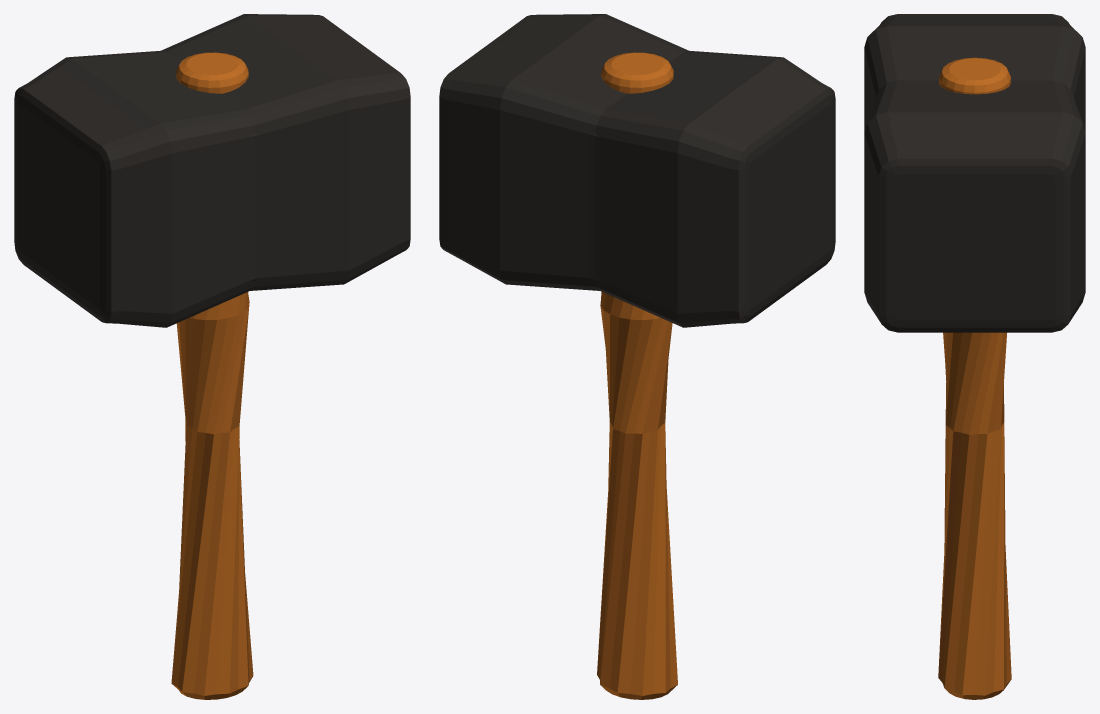
Rendered from Cekic2.fbx.
The picture shows the model from 3 angles, left to right: view 1: azimuth 30°, elevation 25°; view 2: azimuth 150°, elevation 25°; view 3: azimuth 270°, elevation 25°; orthographic projection.
Visible parts, largest first — view 1: mallet; view 2: mallet; view 3: mallet.
Boxes of the visible parts, bbox=[...] form: mallet: bbox=[14, 14, 410, 699]; mallet: bbox=[439, 14, 835, 699]; mallet: bbox=[864, 14, 1085, 699].
Size of the model in its own units: 26.13 by 50.96 by 16.54.
1 material, 1 textured.
